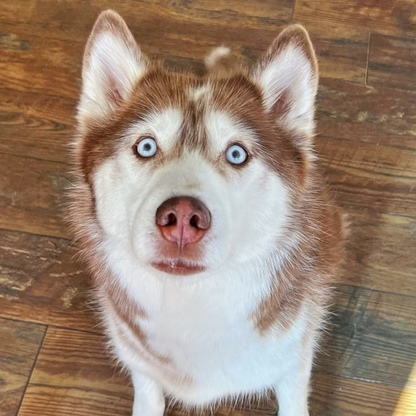husky: (55, 3, 354, 416)
